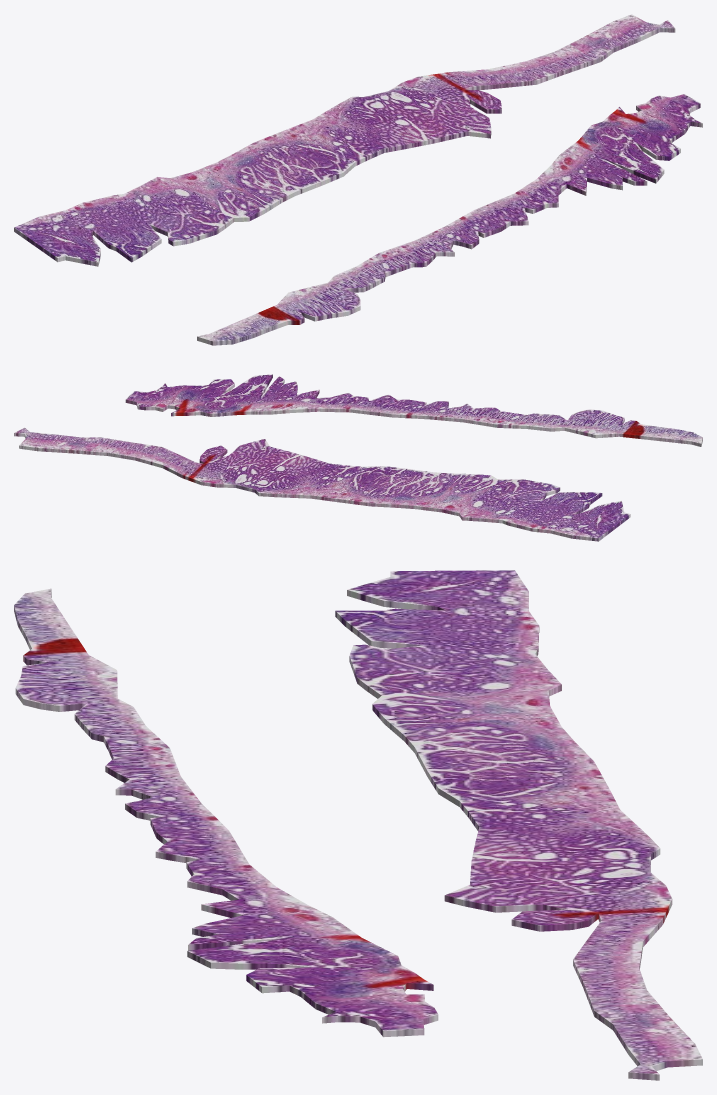
3 renders of one model, top to bottom at view 1: azimuth 30°, elevation 25°; view 2: azimuth 150°, elevation 25°; view 3: azimuth 270°, elevation 25°, orthographic. The views are drawn at different scales.
Parts seen in each view (by area): view 1: 平面; view 2: 平面; view 3: 平面.
Boxes of the visible parts, box(x1,y1,x2,y2) form: 平面: box(14, 14, 702, 345); 平面: box(14, 374, 702, 541); 平面: box(14, 570, 702, 1080).
Size of the model in its own units: 24.76 by 0.14 by 14.29.
1 material, 1 textured.
